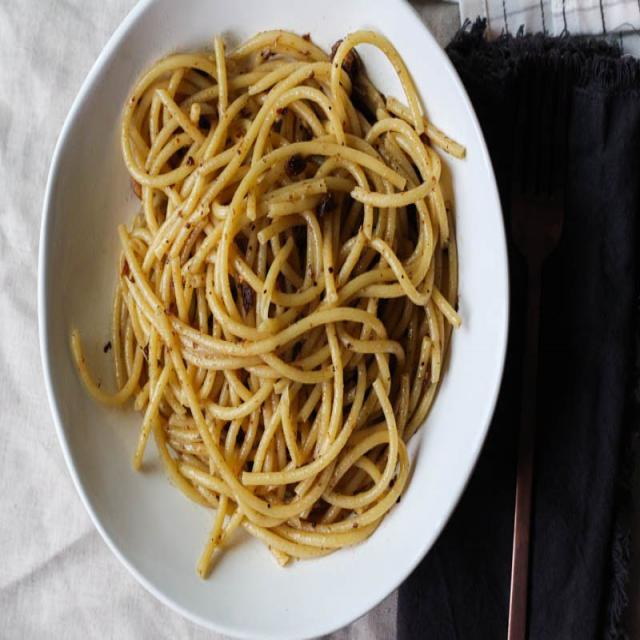Oil pasta: (87, 59, 463, 571)
